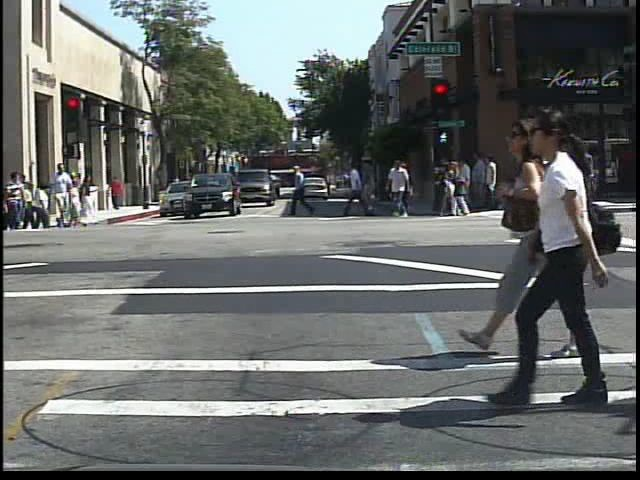person: (515, 101, 609, 413), (469, 112, 549, 353), (517, 143, 549, 211), (48, 162, 76, 230), (6, 165, 30, 233), (108, 174, 127, 212), (169, 170, 187, 201)
